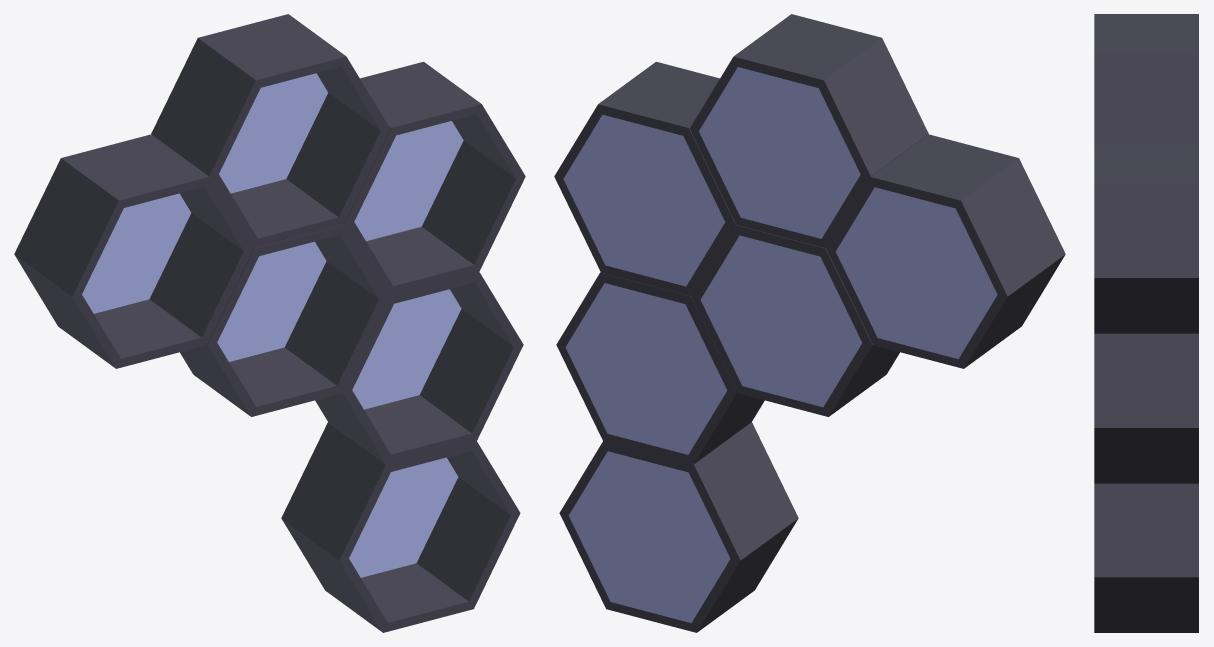
File: DecoHexagonal_FedericoL_46961666.fbx
3 renders of one model, left to right at view 1: azimuth 30°, elevation 25°; view 2: azimuth 150°, elevation 25°; view 3: azimuth 270°, elevation 25°, orthographic. The views are drawn at different scales.
Visible parts, largest first — view 1: HexagonalesUnido; view 2: HexagonalesUnido; view 3: HexagonalesUnido.
Part boxes in pixels (bbox=[...]): HexagonalesUnido: bbox=[14, 14, 525, 632]; HexagonalesUnido: bbox=[554, 14, 1065, 632]; HexagonalesUnido: bbox=[1094, 14, 1198, 632].
Size of the model in its own units: 158 by 195 by 35.29.
Materials: 1 (1 with a texture image).
